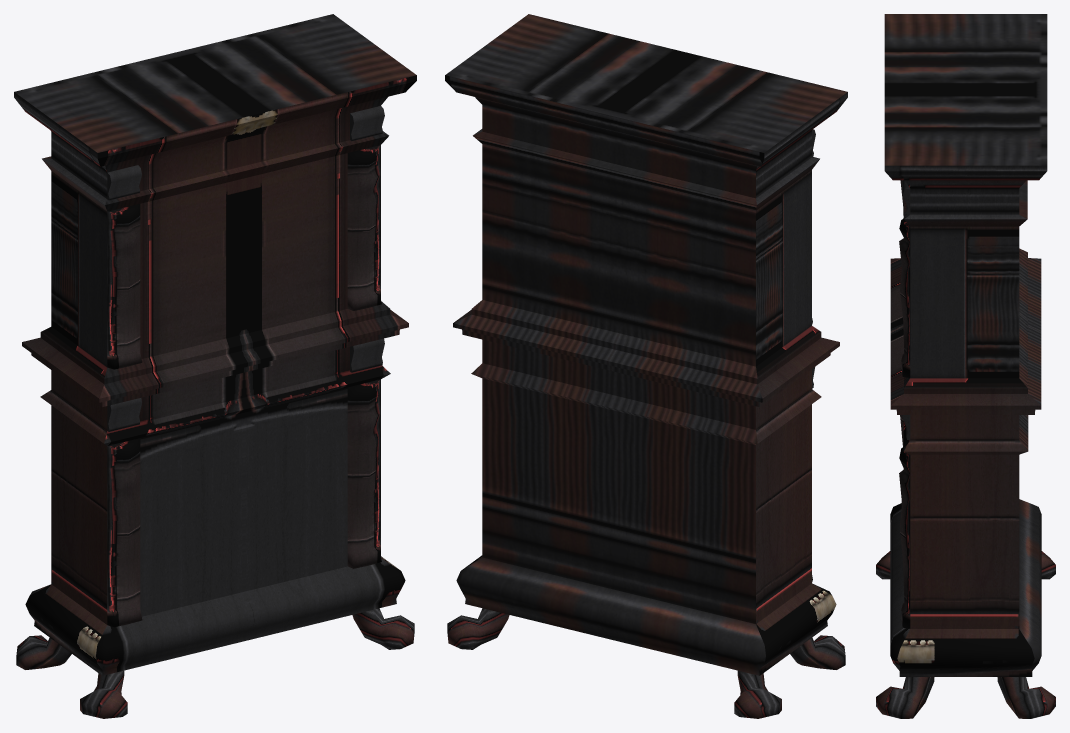
File: Cabinet01.FBX
3 views of the same model, side by side, from view 1: azimuth 30°, elevation 25°; view 2: azimuth 150°, elevation 25°; view 3: azimuth 270°, elevation 25° (orthographic). The views are drawn at different scales.
Visible parts, largest first — view 1: Cabinet01; view 2: Cabinet01; view 3: Cabinet01.
Boxes of the visible parts, box(x1,y1,x2,y2) form: Cabinet01: box(14, 14, 416, 718); Cabinet01: box(445, 14, 847, 718); Cabinet01: box(876, 14, 1055, 718).
Size of the model in its own units: 169 by 81.55 by 278.
